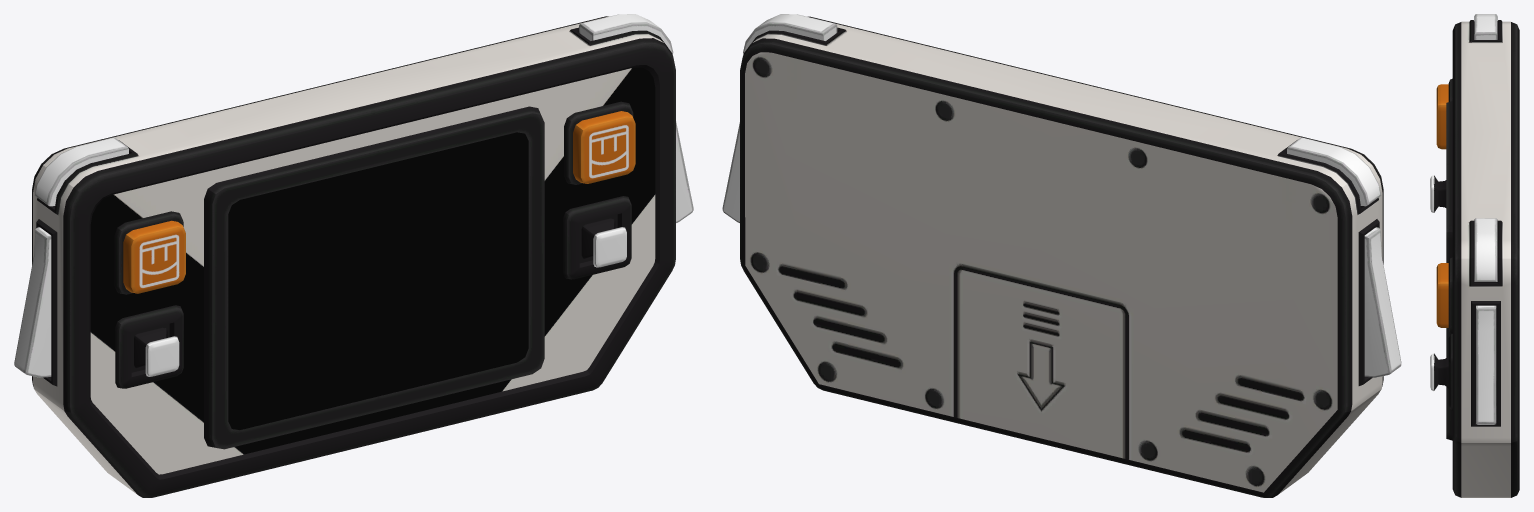
The model's file is rc remote.glb.
3 views of the same model, side by side, from view 1: azimuth 30°, elevation 25°; view 2: azimuth 150°, elevation 25°; view 3: azimuth 270°, elevation 25° (orthographic). The views are drawn at different scales.
Parts seen in each view (by area): view 1: RC_RemoteNEW, Cube; view 2: RC_RemoteNEW; view 3: RC_RemoteNEW.
Boxes of the visible parts, box(x1,y1,x2,y2) form: RC_RemoteNEW: box(14, 14, 693, 497); Cube: box(228, 132, 528, 430); RC_RemoteNEW: box(722, 14, 1401, 497); RC_RemoteNEW: box(1430, 14, 1519, 497).
Size of the model in its own units: 0.4372 by 0.2175 by 0.0622.
2 materials, 1 textured.
